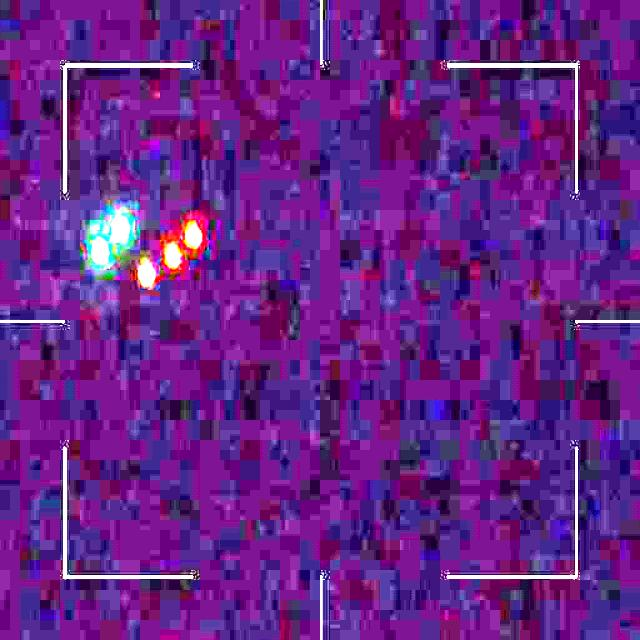bird: (91, 214, 202, 286)
